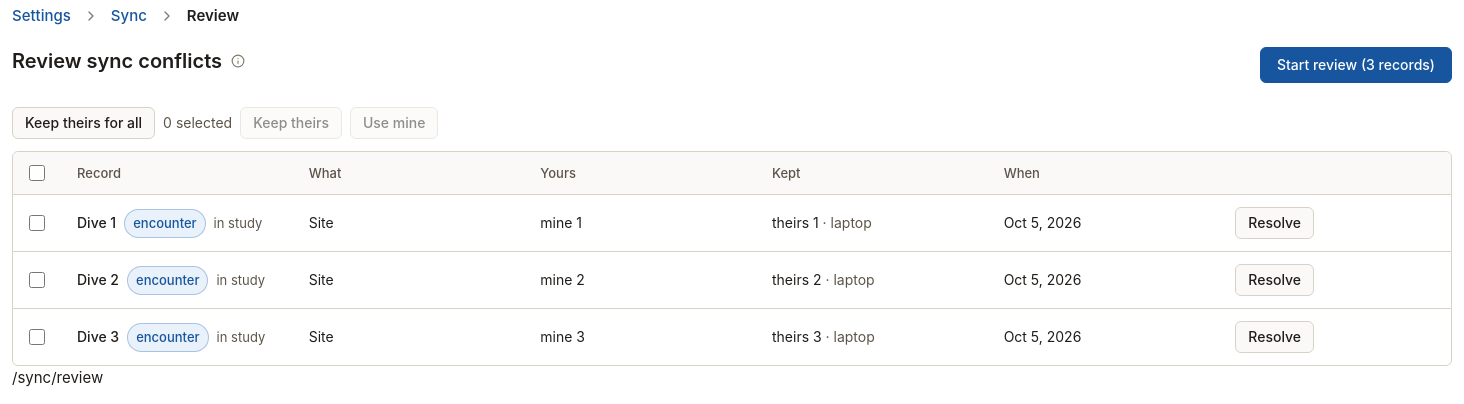
SyncReviewPage › settles several at once from the ticked rows, in one request, and says which could not be
Click the checkbox named "Select all". click: {"x": 37, "y": 173}
box: [29, 165, 45, 181]
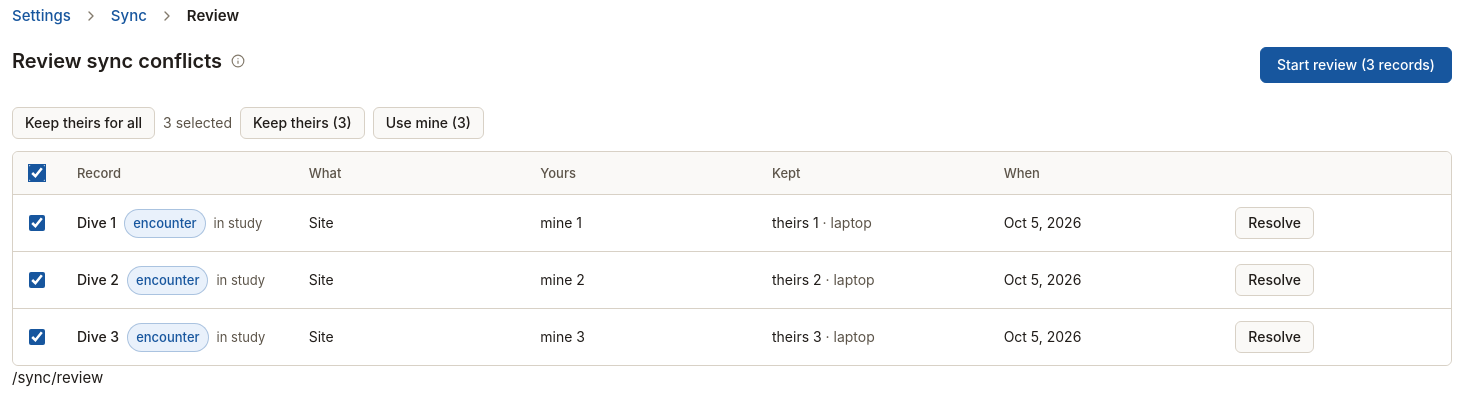
Click the button "Use mine (3)". click: {"x": 428, "y": 123}
box: [373, 107, 484, 139]
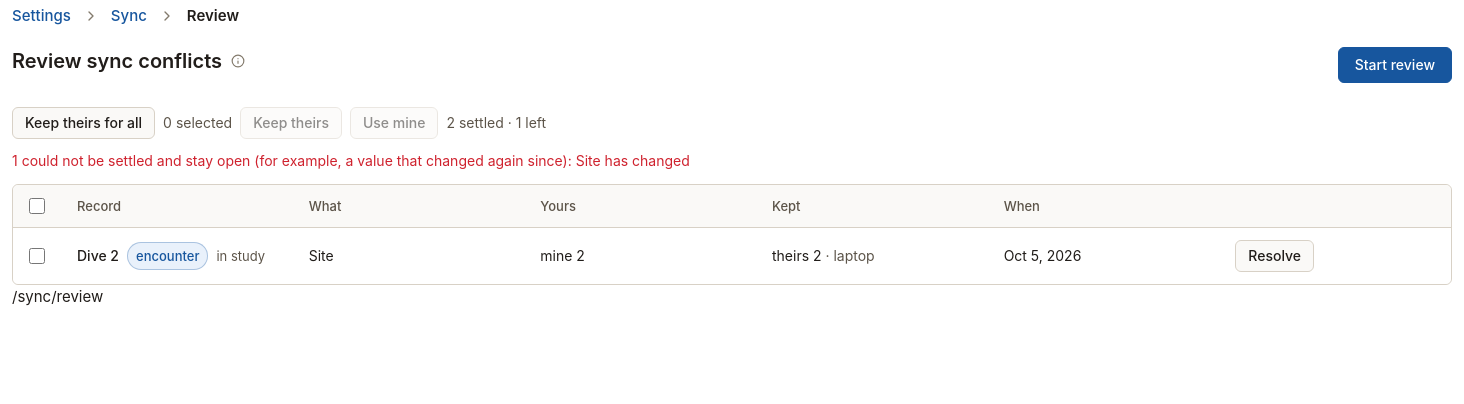
Result: the message shows "1 could not be settled" at [12, 152, 690, 169]
